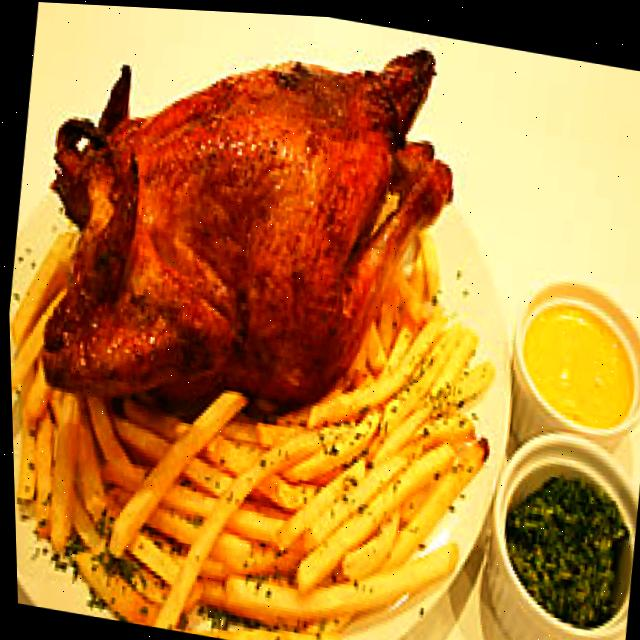鸡肉料理 含炸鸡: (4, 0, 471, 467)
